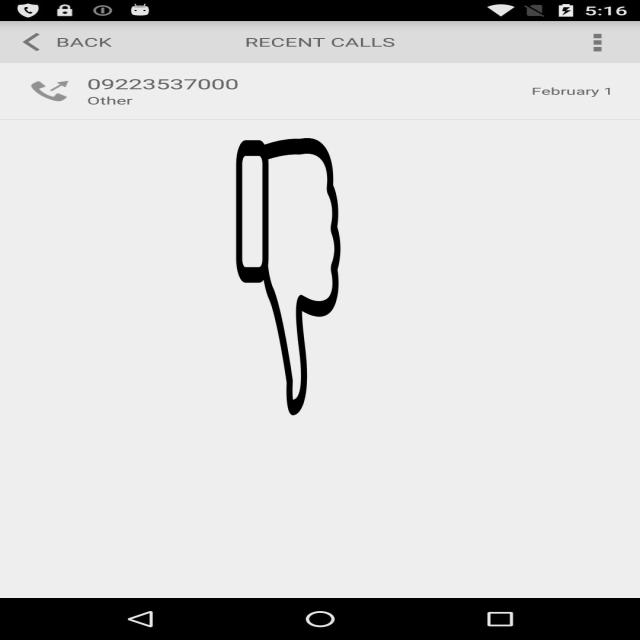obstruction: (235, 138, 342, 415)
